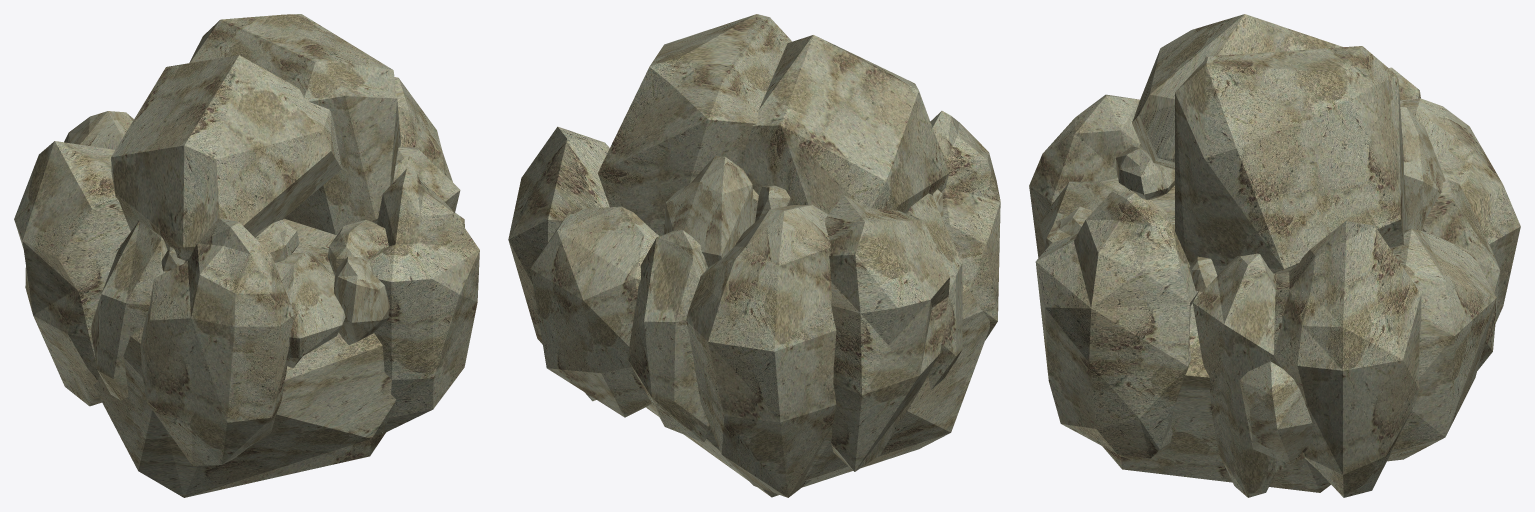
The model's file is poi_all_lair_cave_light_large_l1.fbx.
3 views of the same model, side by side, from view 1: azimuth 30°, elevation 25°; view 2: azimuth 150°, elevation 25°; view 3: azimuth 270°, elevation 25° (orthographic). The views are drawn at different scales.
Visible parts, largest first — view 1: mesh_node; view 2: mesh_node; view 3: mesh_node.
Part boxes in pixels (x1,y1,x2,y2): mesh_node: (14, 14, 479, 497); mesh_node: (508, 14, 1000, 497); mesh_node: (1029, 14, 1520, 497).
Bounding box in the file's own units: 28.16 × 26.4 × 26.44.
Materials: 1 (1 with a texture image).
